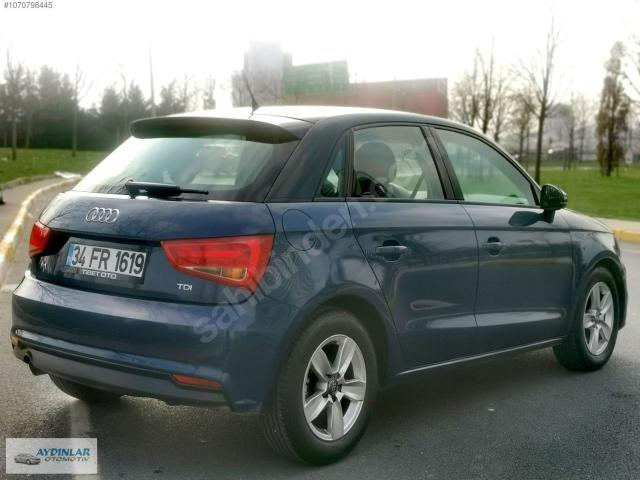plaka: (66, 243, 146, 280)
